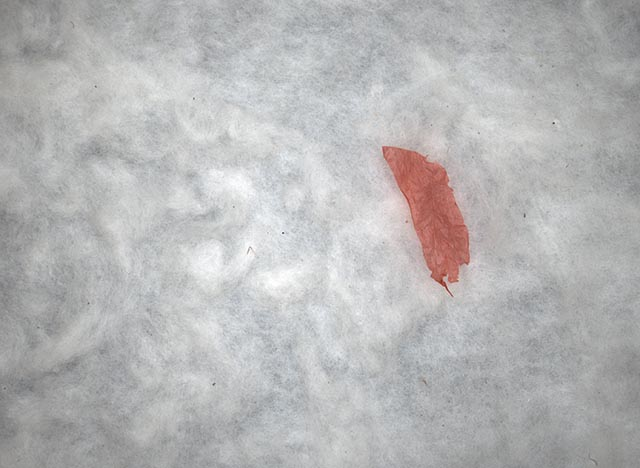plastic film: (381, 145, 471, 299)
